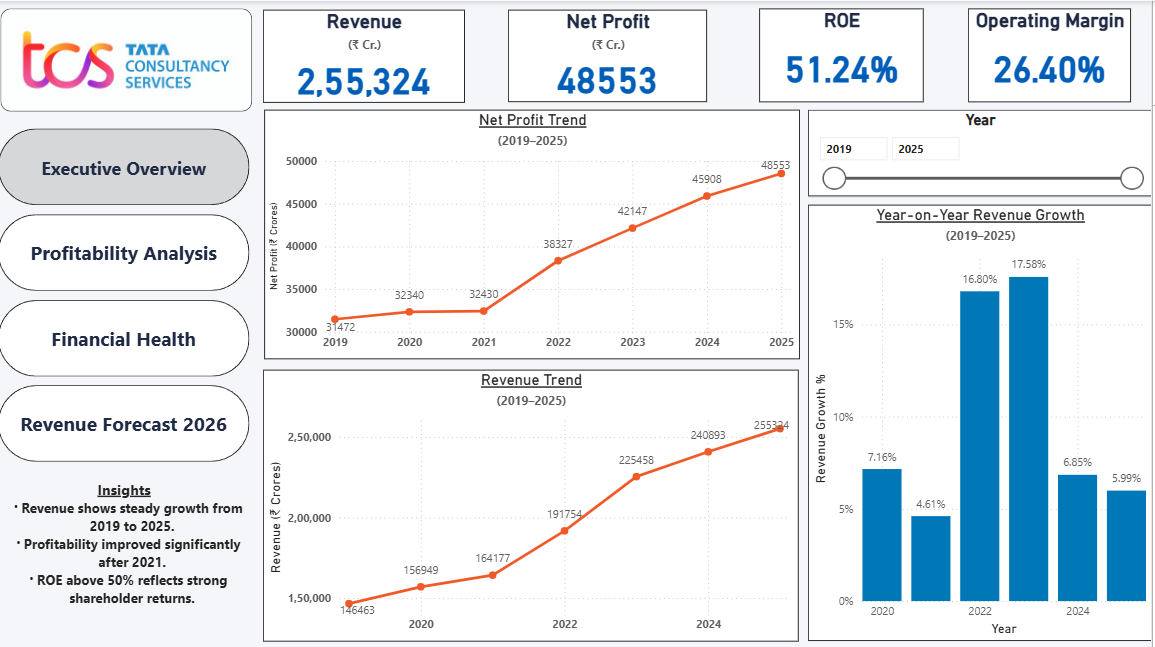

The page's visual inventory and layout, read from the dashboard file:
{"tool":"powerbi","page":{"name":"Executive Overview","canvas":[1280,720],"ordinal":0},"visuals":[{"type":"image","box":[2.9,8.6,279.4,114],"z":0},{"type":"card","title":"Revenue","fields":{"Values":["Annual.Revenue Latest"]},"box":[293.7,9.6,223.7,102.9],"z":1000},{"type":"card","title":"Net Profit","fields":{"Values":["Annual.Net Profit Latest"]},"box":[565.9,10,220.9,102.6],"z":2000},{"type":"card","title":"ROE ","fields":{"Values":["Annual.ROE 2025"]},"box":[845.3,8.6,182.4,104.1],"z":3000},{"type":"card","title":"Operating Margin","fields":{"Values":["Annual.Operating Margin"]},"box":[1076.2,8.6,181,104.1],"z":4000},{"type":"lineChart","title":"Net Profit Trend","fields":{"Category":["Sheet1.Year"],"Y":["Sum(Sheet1.Net Profit )"]},"box":[295,120.8,594.2,277.2],"z":5000},{"type":"lineChart","title":"Revenue Trend","fields":{"Category":["Sheet1.Year"],"Y":["Quarters.Actual Revenue"]},"box":[293.7,408.9,594.2,301.9],"z":6000},{"type":"clusteredColumnChart","title":"Year-on-Year Revenue Growth ","fields":{"Category":["Sheet1.Year"],"Y":["Annual.Revenue Growth %"]},"box":[898.8,226.4,381.5,484.4],"z":7000},{"type":"slicer","title":"Year","fields":{"Values":["Sheet1.Year"]},"box":[898.5,120.8,381.5,96.1],"z":8000},{"type":"textbox","box":[0,525.6,279.9,167.4],"z":9000},{"type":"pageNavigator","box":[0,141.1,279.4,373.5],"z":10000}]}

Visuals, with their boxes in screenshot pixels (x1, y1, x2, y2), scaled from the page's 1280x720 canvas onto the 1155x647 screenshot:
image: rect(3, 8, 255, 110)
"Revenue" card: rect(265, 9, 467, 101)
"Net Profit" card: rect(511, 9, 710, 101)
"ROE " card: rect(763, 8, 927, 101)
"Operating Margin" card: rect(971, 8, 1134, 101)
"Net Profit Trend" lineChart: rect(266, 109, 802, 358)
"Revenue Trend" lineChart: rect(265, 367, 801, 639)
"Year-on-Year Revenue Growth " clusteredColumnChart: rect(811, 203, 1154, 639)
"Year" slicer: rect(811, 109, 1154, 195)
textbox: rect(0, 472, 253, 623)
pageNavigator: rect(0, 127, 252, 462)
